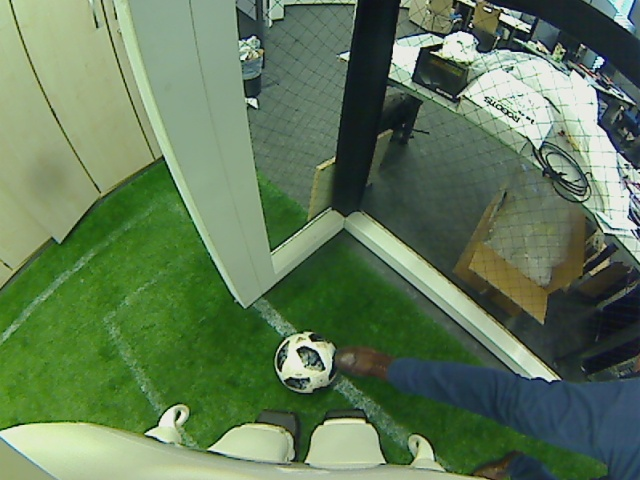ball: (273, 327, 337, 394)
